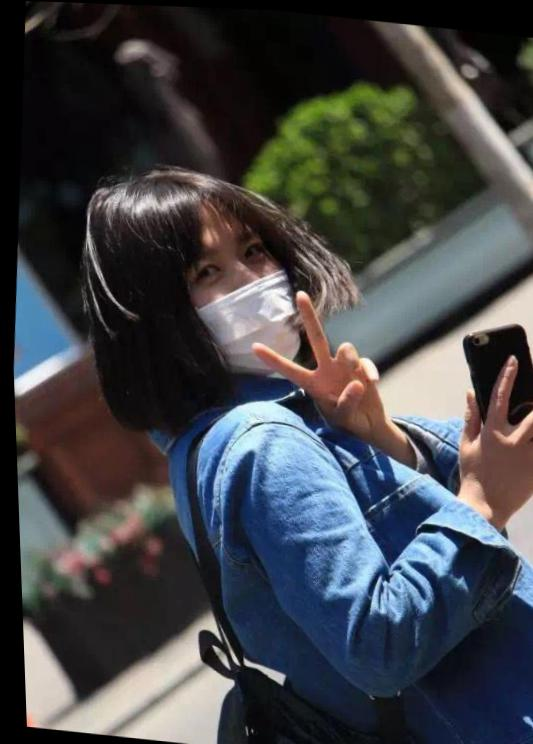WRONG: (165, 217, 311, 381)
